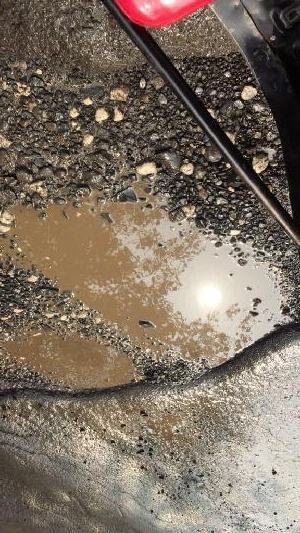pothole: (0, 169, 300, 405)
